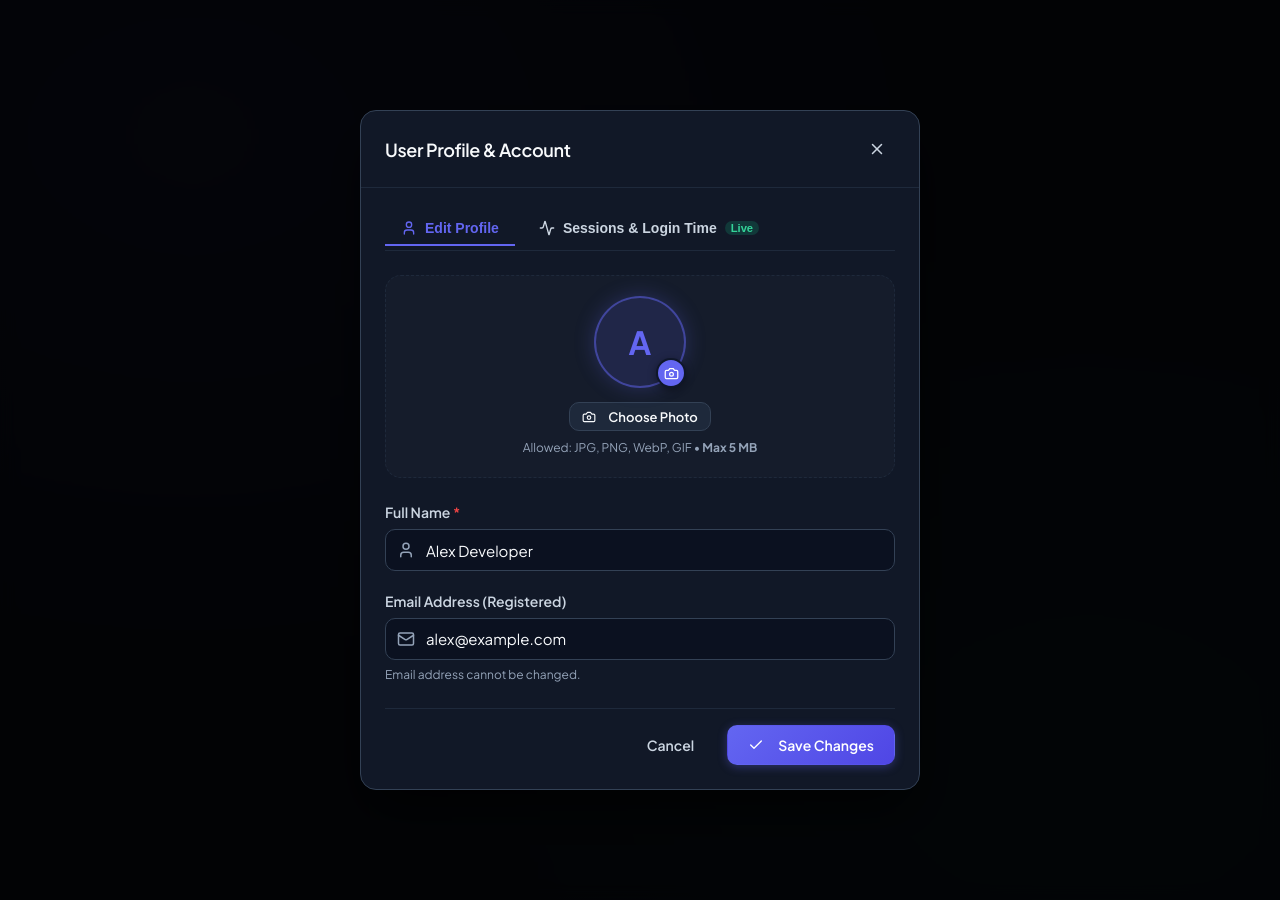
it: EditProfileModal Component › renders session statistics and login count when activity tab is active
Step 1. Click the button "Sessions & Login Time Live" → [649, 229], box [523,212,775,246]
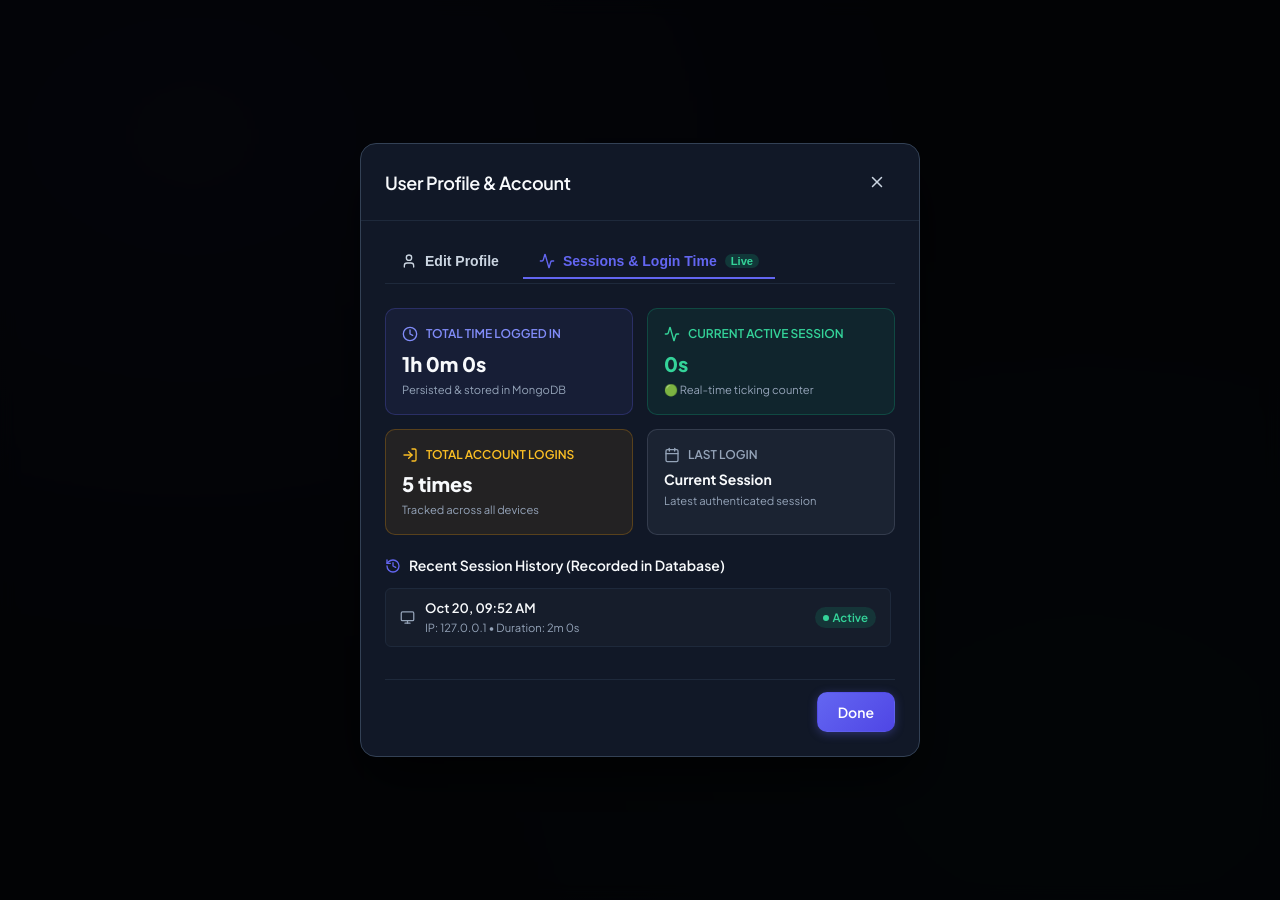
expect the text "Total Time Logged In" is shown: met, box [426,326,561,344]
expect the text "Total Account Logins" is shown: met, box [426,446,574,464]
expect the text "5 times" is shown: met, box [402,471,473,496]
